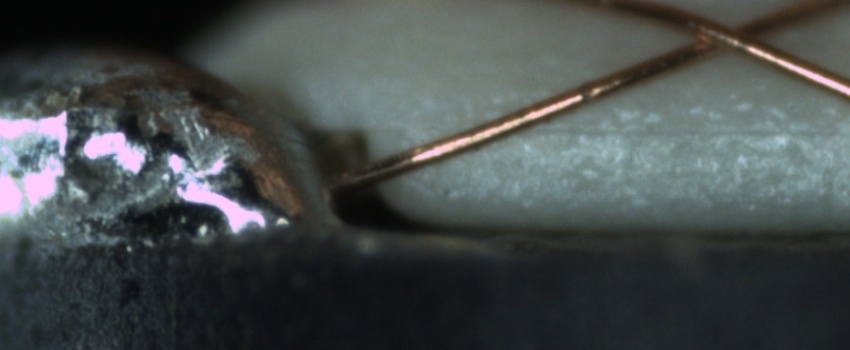CL: (665, 6, 789, 63)
DL: (482, 98, 850, 162)
